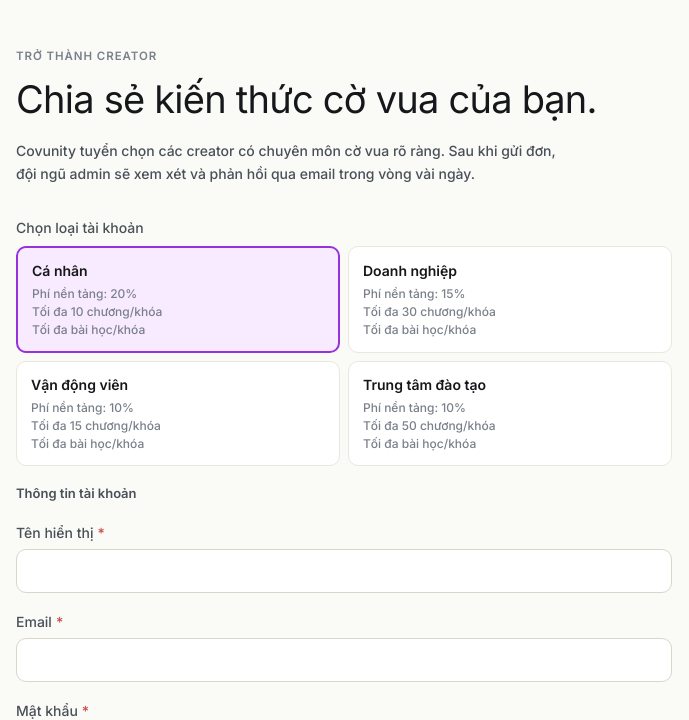
Scenario: BecomeCreatorPage › tier selector › switching to training_center tier shows address and size fields
The image size is (689, 720).
Click the button with test id "tier-card-training_center" at (424, 385), box [348,361,672,466]
(page scrolled)
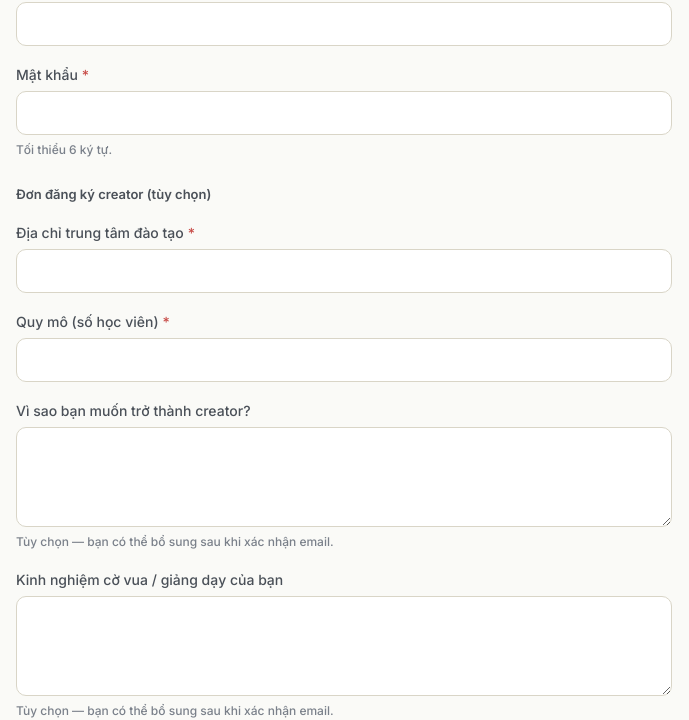
Check: the field with test id "field-center-address" is shown, box [16,249,672,293]
Check: the number field with test id "field-center-size" is shown, box [16,338,672,382]
